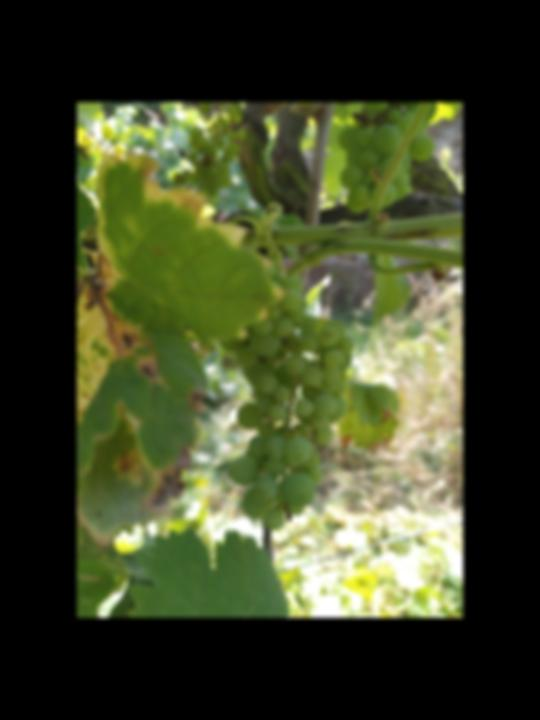grape: (226, 268, 359, 534)
